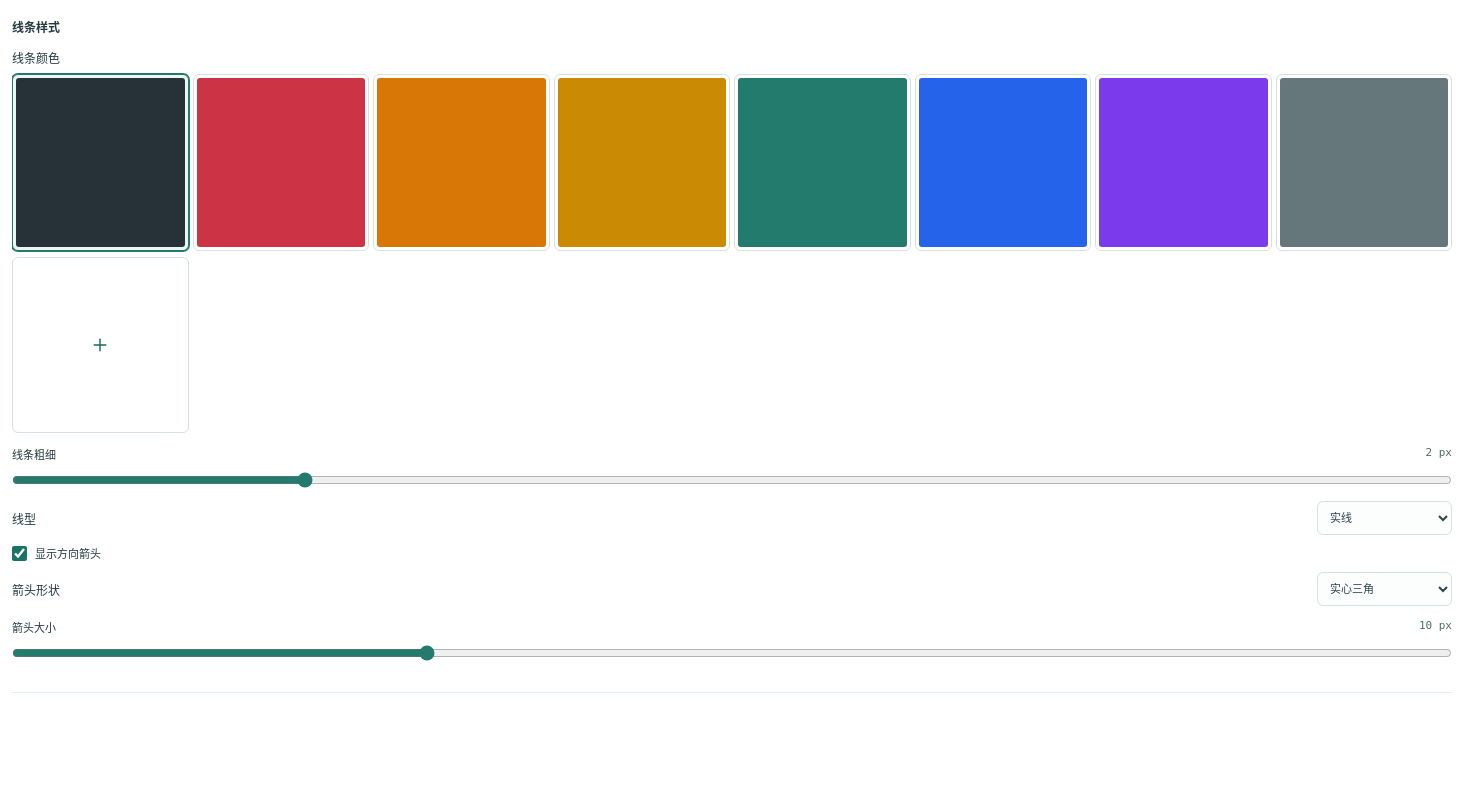
Test: edits arrow appearance and hides only the arrow-specific controls when disabled
Select "LaTeX 风格" in the dropdown named "方向箭头形状" at coordinates (1384, 589), box [1317,572,1452,606]
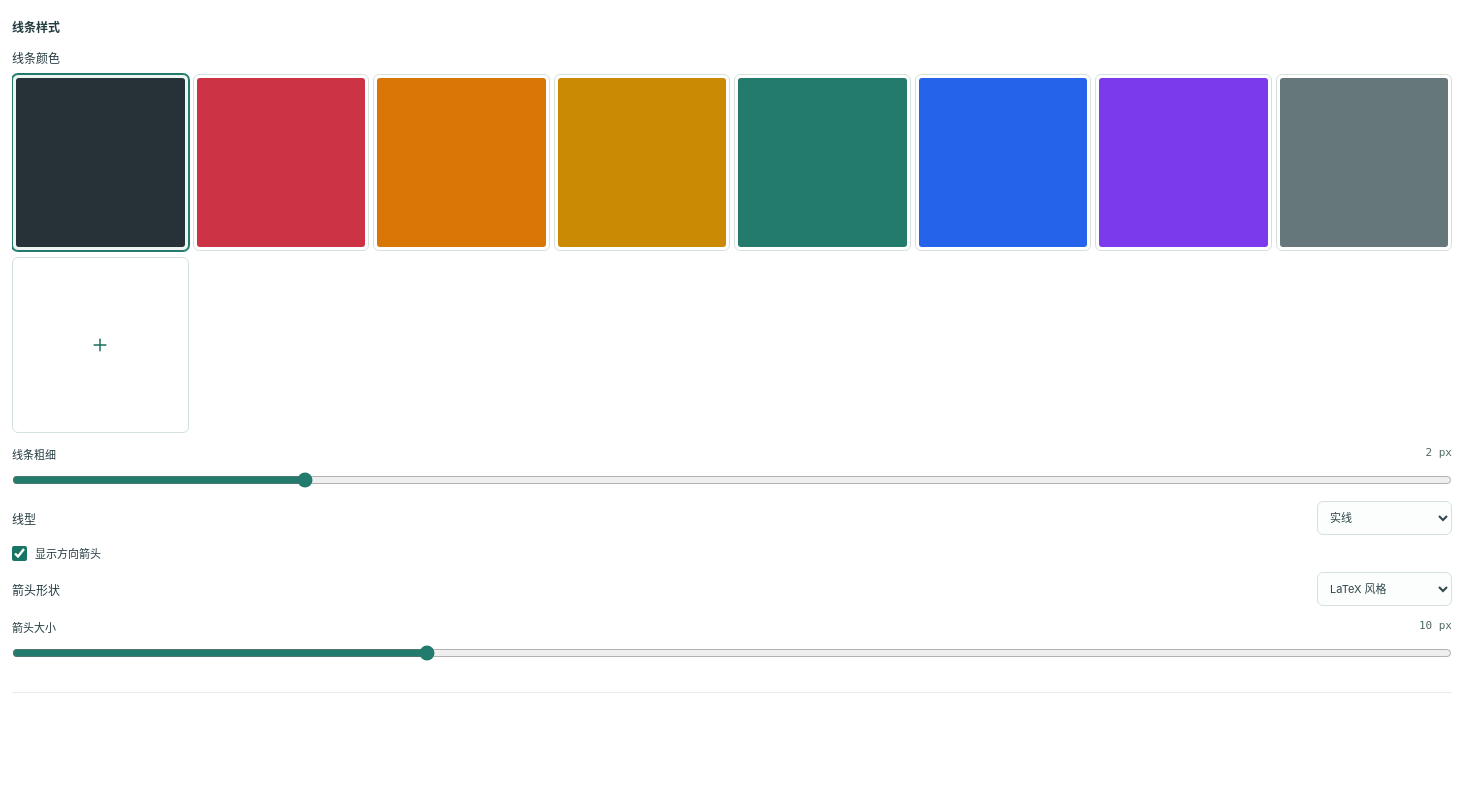
Set the slider named "方向箭头大小" to "18" at coordinates (1241, 653), box [12,645,1452,661]
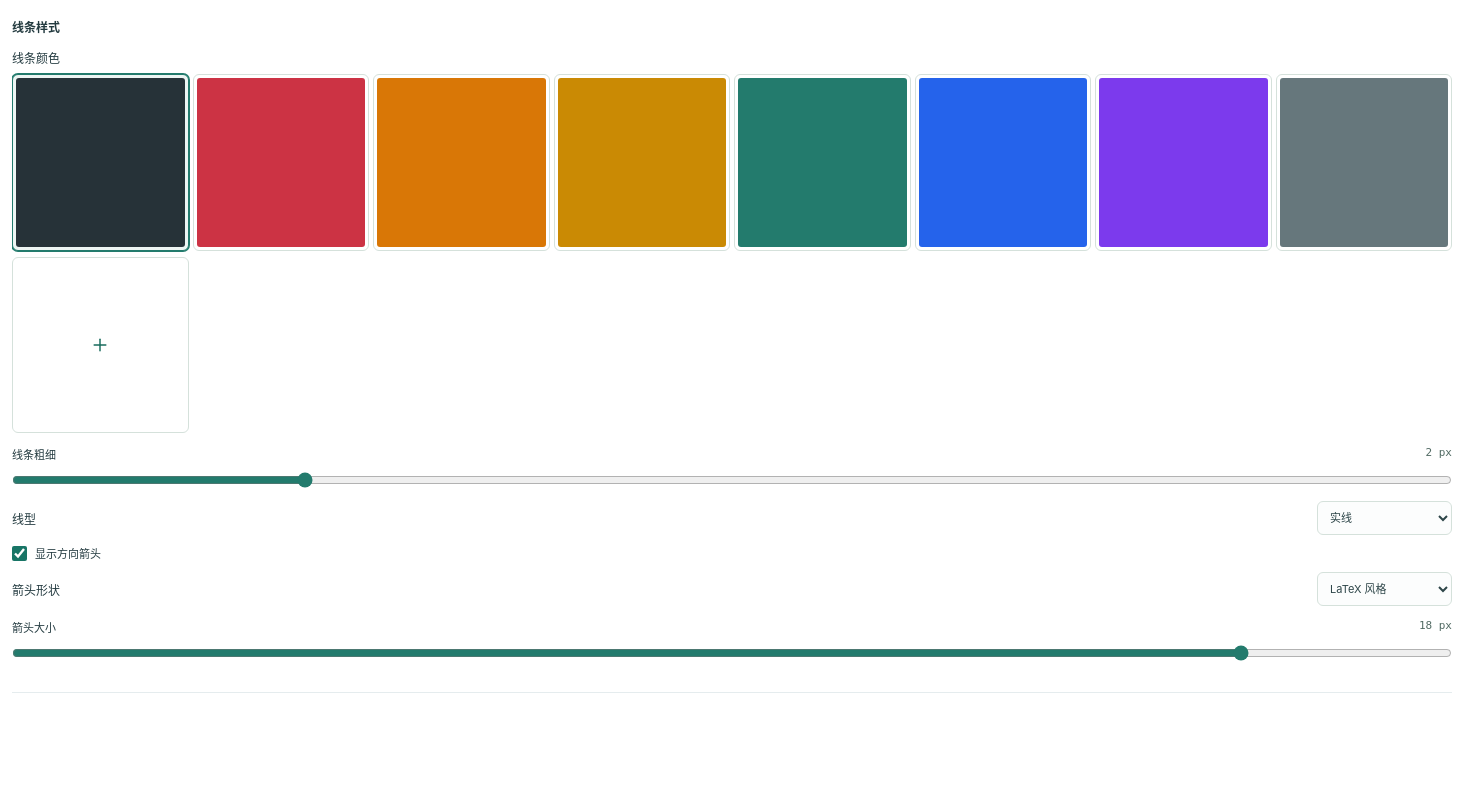
Click the checkbox labelled "显示方向箭头".
click(20, 553)  # box [12,546,27,560]
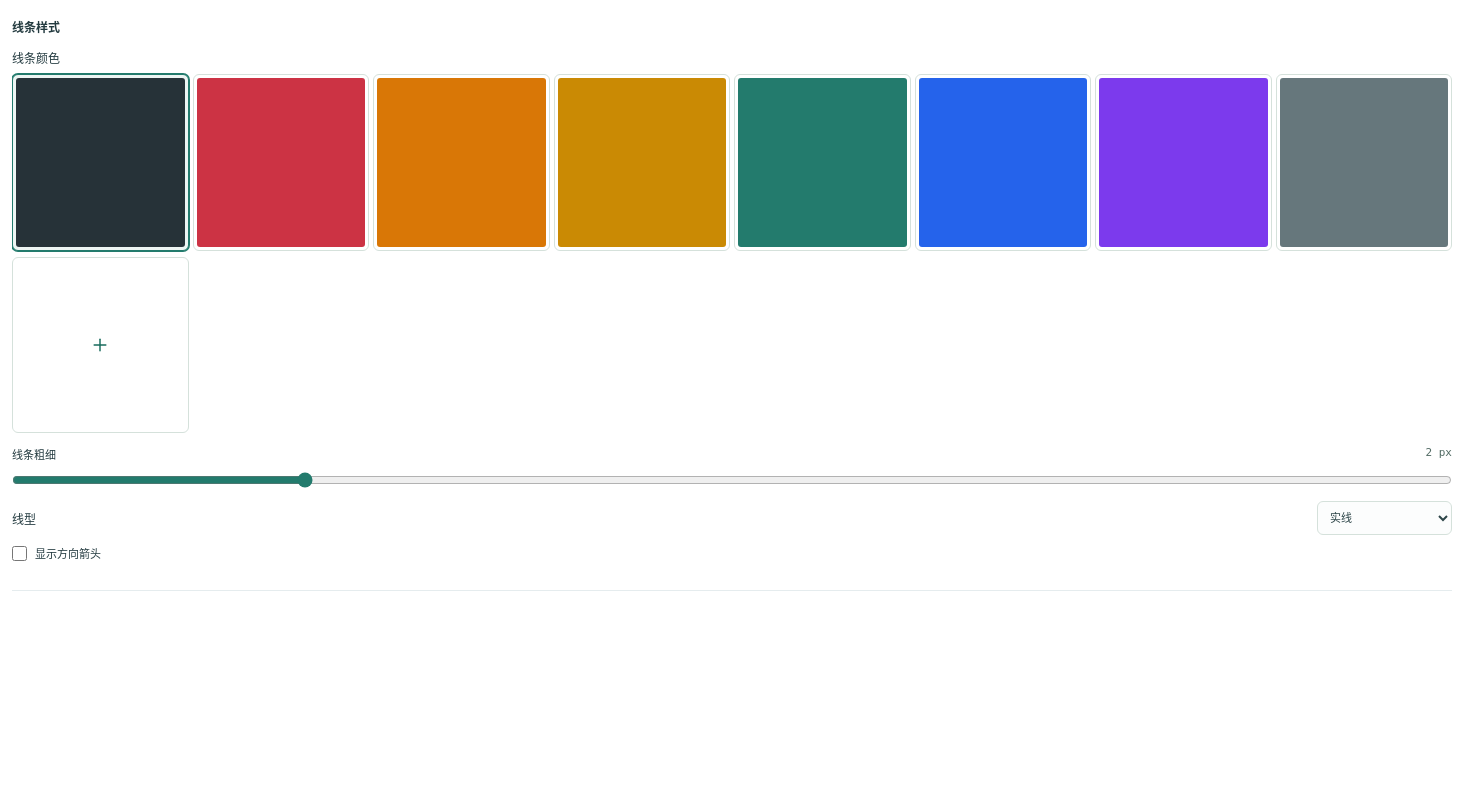
Expected: the slider labelled "线条粗细" is shown, [12,472,1452,488]
Result: the dropdown labelled "方向箭头形状" is gone
Click the checkbox labelled "显示方向箭头".
click(20, 553)  # box [12,546,27,560]
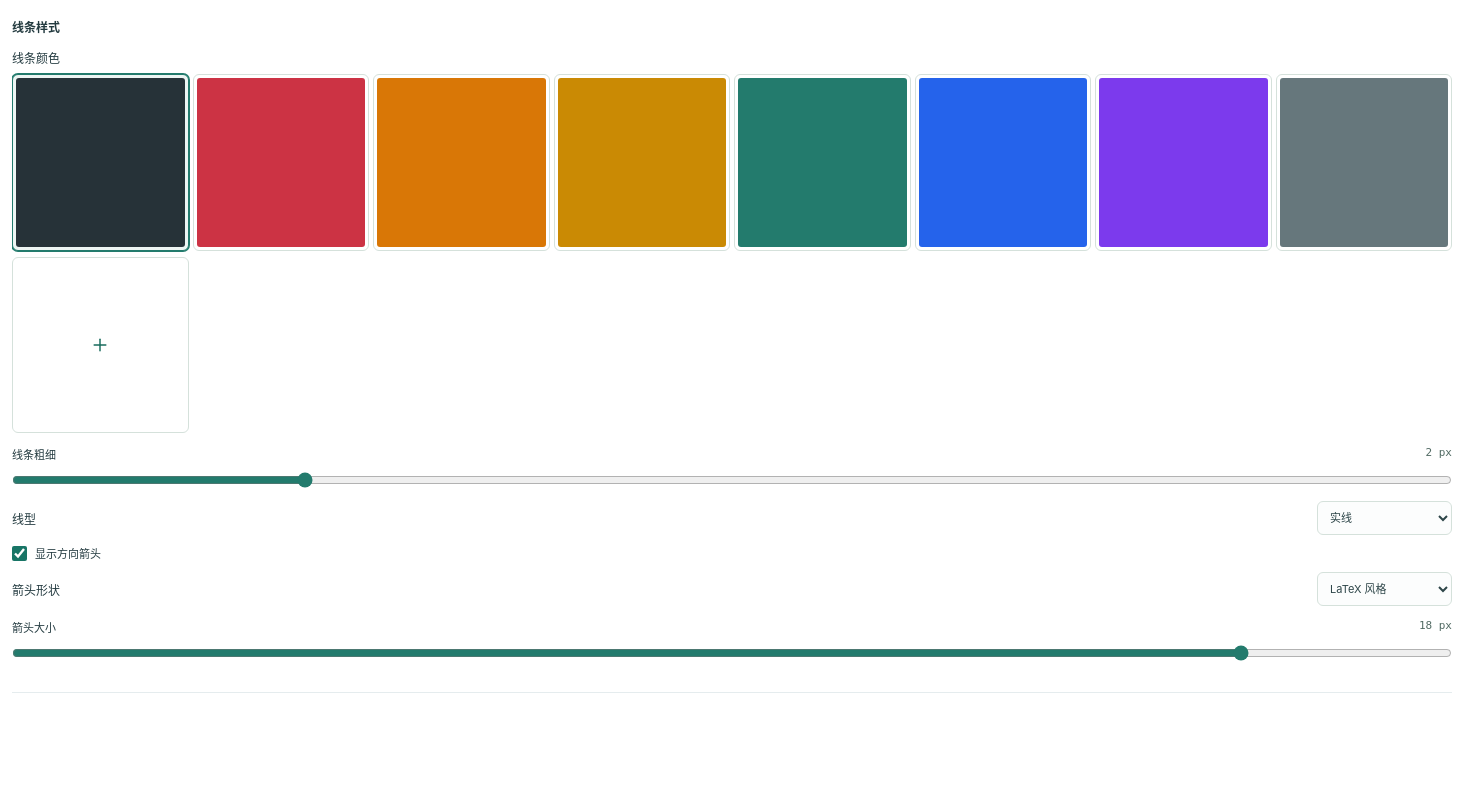
Result: the slider named "方向箭头大小" holds "18" at [12,645,1452,661]
